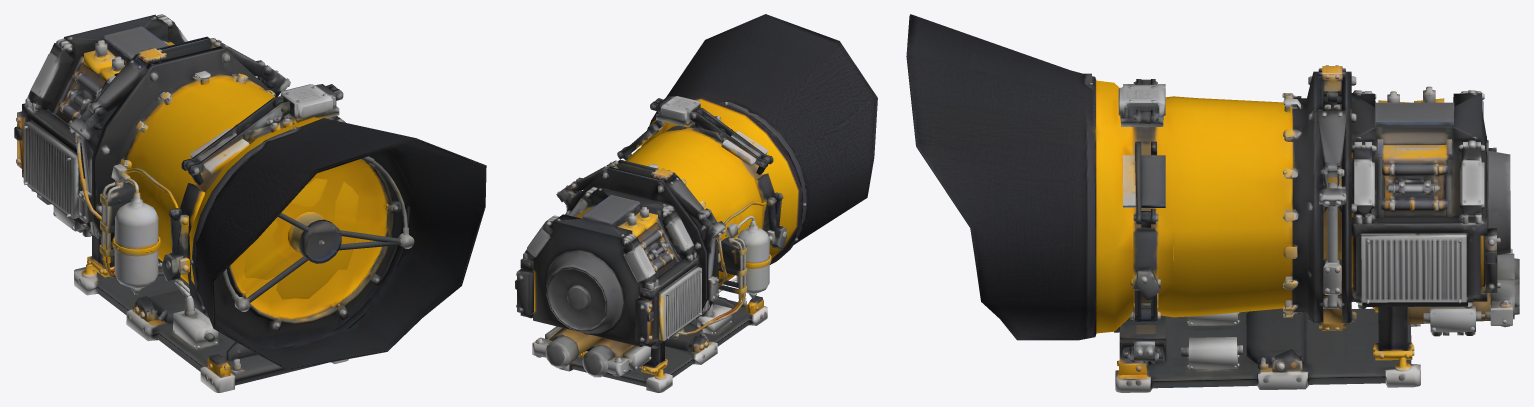
Rendered from sat2_2.fbx.
3 renders of one model, left to right at view 1: azimuth 30°, elevation 25°; view 2: azimuth 150°, elevation 25°; view 3: azimuth 270°, elevation 25°, orthographic. The views are drawn at different scales.
Visible parts, largest first — view 1: tripo_node_9679529c; view 2: tripo_node_9679529c; view 3: tripo_node_9679529c.
Part boxes in pixels (x1,y1,x2,y2): tripo_node_9679529c: (14,14,486,392); tripo_node_9679529c: (515,14,877,392); tripo_node_9679529c: (906,14,1519,392).
Size of the model in its own units: 0.5474 by 0.5786 by 0.9995.
